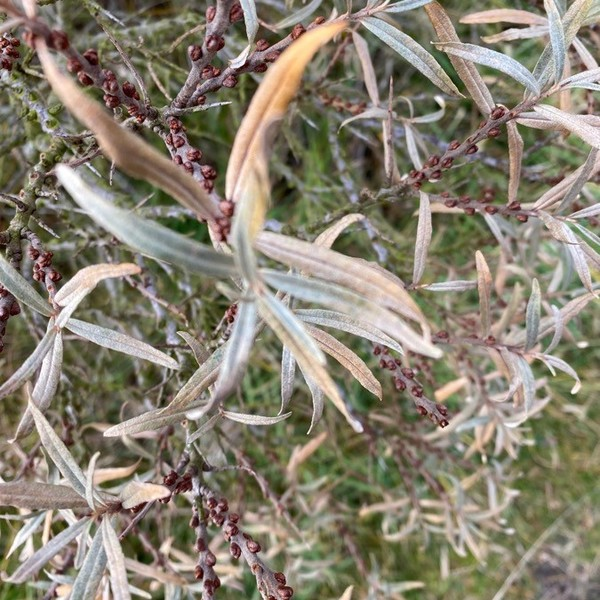obstacle: (57, 56, 461, 390)
